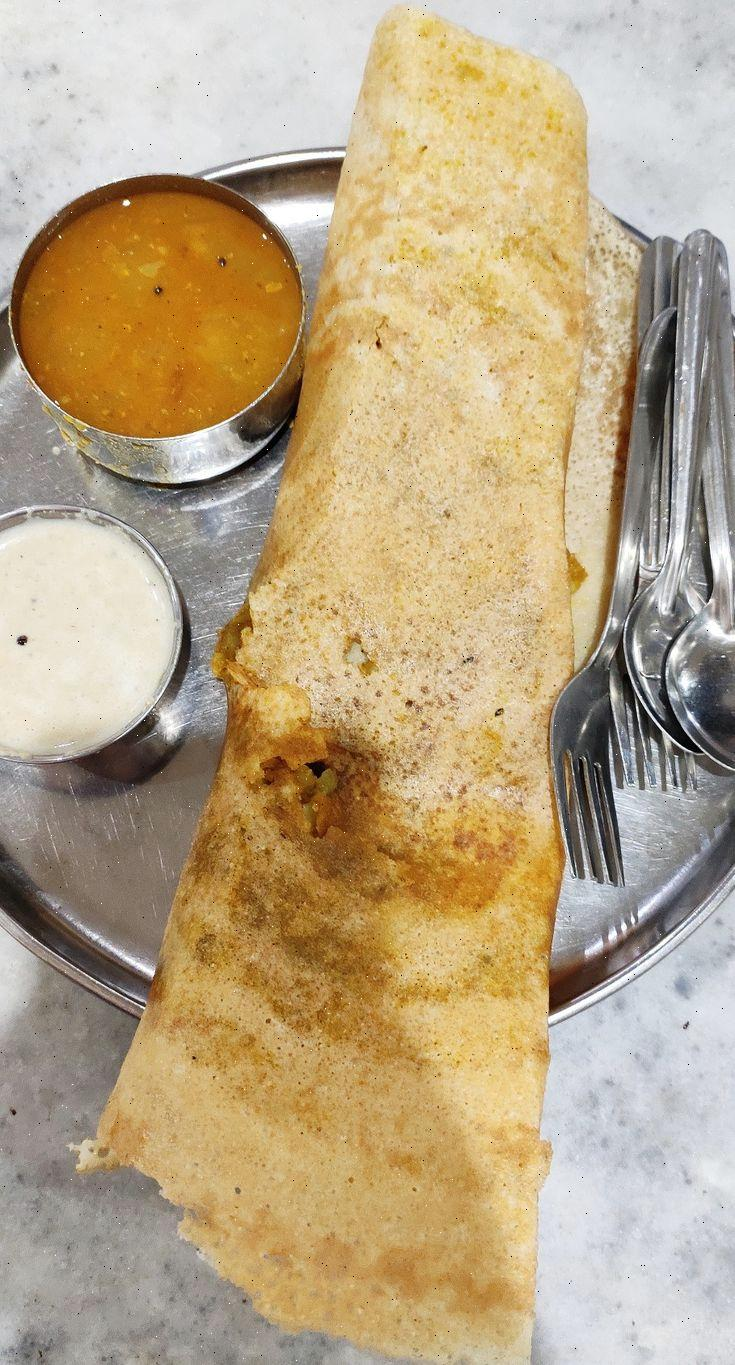dosa: (220, 0, 574, 1365)
